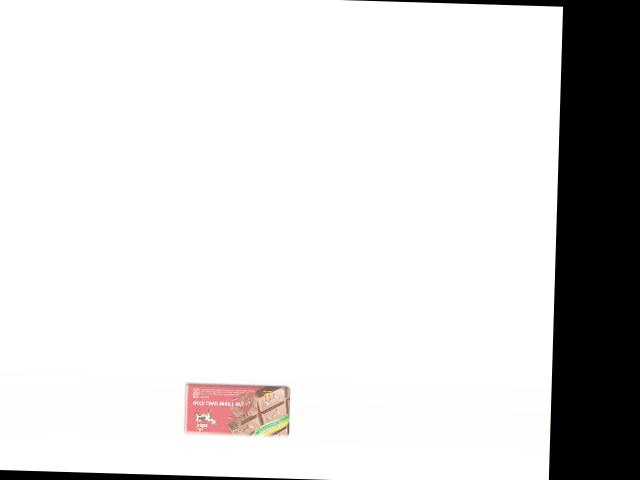chocolate: (181, 380, 291, 438)
